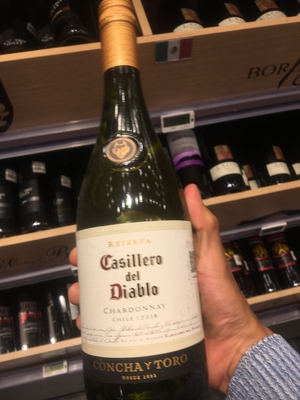casillero del diablo chardonnay: (65, 4, 216, 400)
